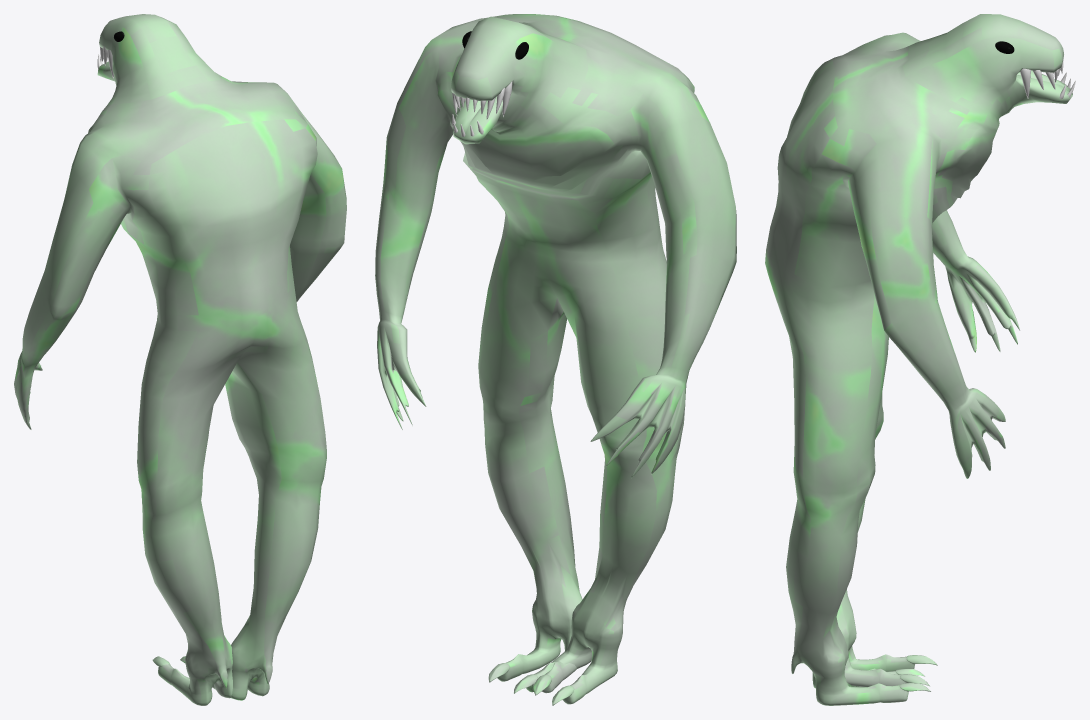
File: Berserkerandar.0003.obj
The picture shows the model from 3 angles, left to right: view 1: azimuth 30°, elevation 25°; view 2: azimuth 150°, elevation 25°; view 3: azimuth 270°, elevation 25°; orthographic projection. The views are drawn at different scales.
Parts seen in each view (by area): view 1: polySurface27; view 2: polySurface27; view 3: polySurface27.
Boxes of the visible parts, <box> form: polySurface27: <box>14,14,346,705</box>; polySurface27: <box>375,14,736,705</box>; polySurface27: <box>765,14,1075,705</box>.
Bounding box in the file's own units: 11.76 × 23.67 × 10.01.
1 material, 1 textured.
